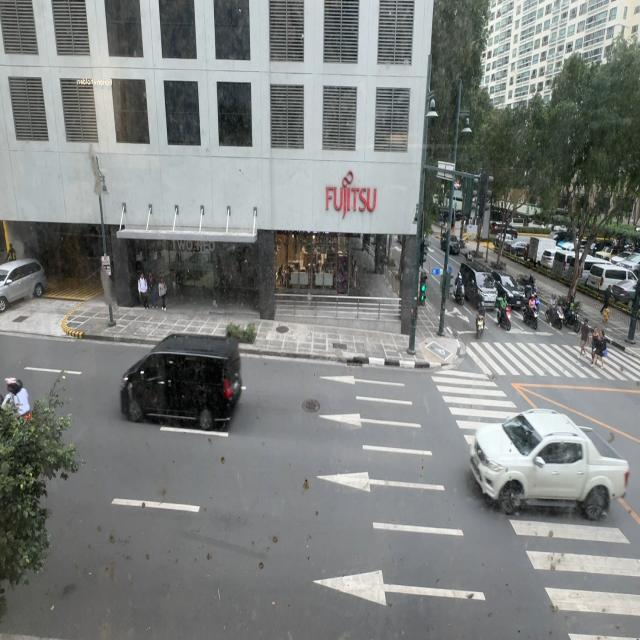crossing: (590, 329, 606, 369), (579, 318, 590, 358)
pedestrain: (148, 272, 158, 310), (138, 272, 148, 309), (601, 283, 612, 315), (158, 278, 167, 313)
